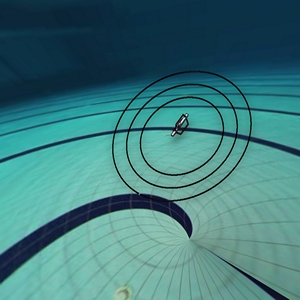circle: (103, 65, 261, 208)
submarine: (166, 105, 194, 143)
